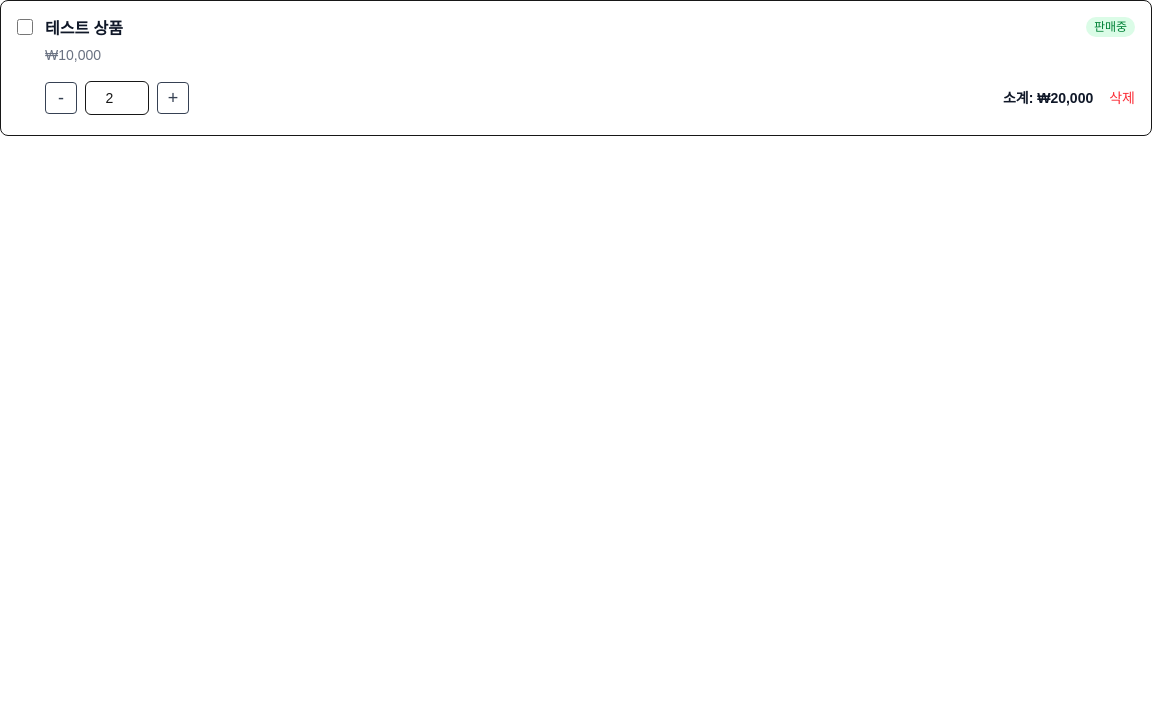
Test: CartItemRow › [삭제] 버튼 클릭 시 삭제 확인 다이얼로그가 표시된다
Click the button "삭제" at (1122, 98), box left=1109, top=88, right=1135, bottom=108
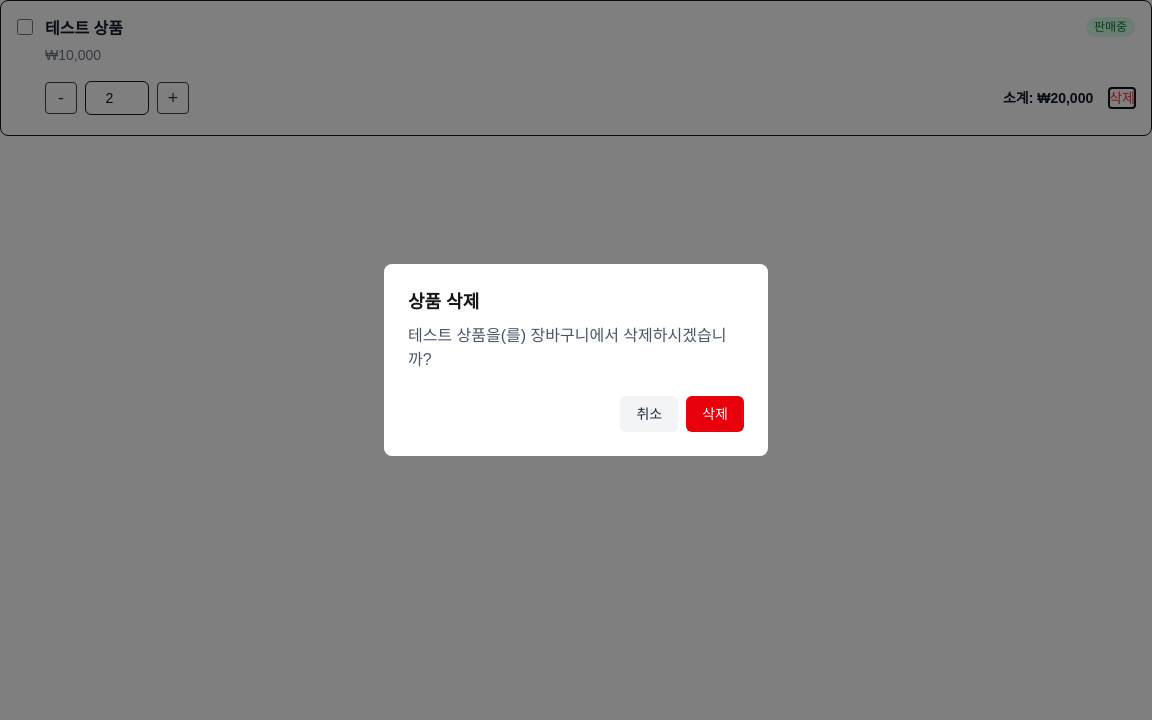
Check: the heading "상품 삭제" is shown, box left=408, top=292, right=479, bottom=312
